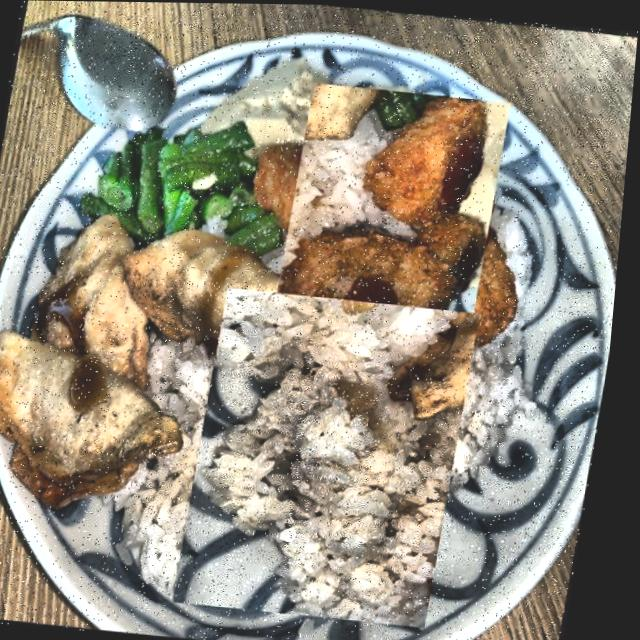Food: (168, 298, 499, 613), (250, 100, 531, 365)
